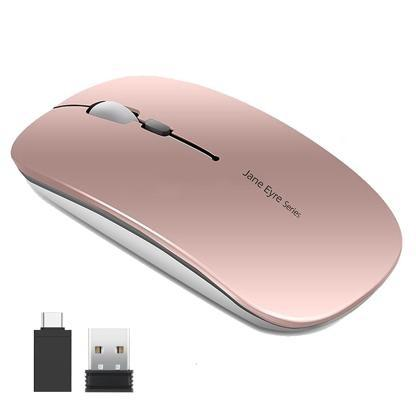not trash: (14, 74, 401, 334), (26, 309, 78, 395), (84, 327, 142, 391)
